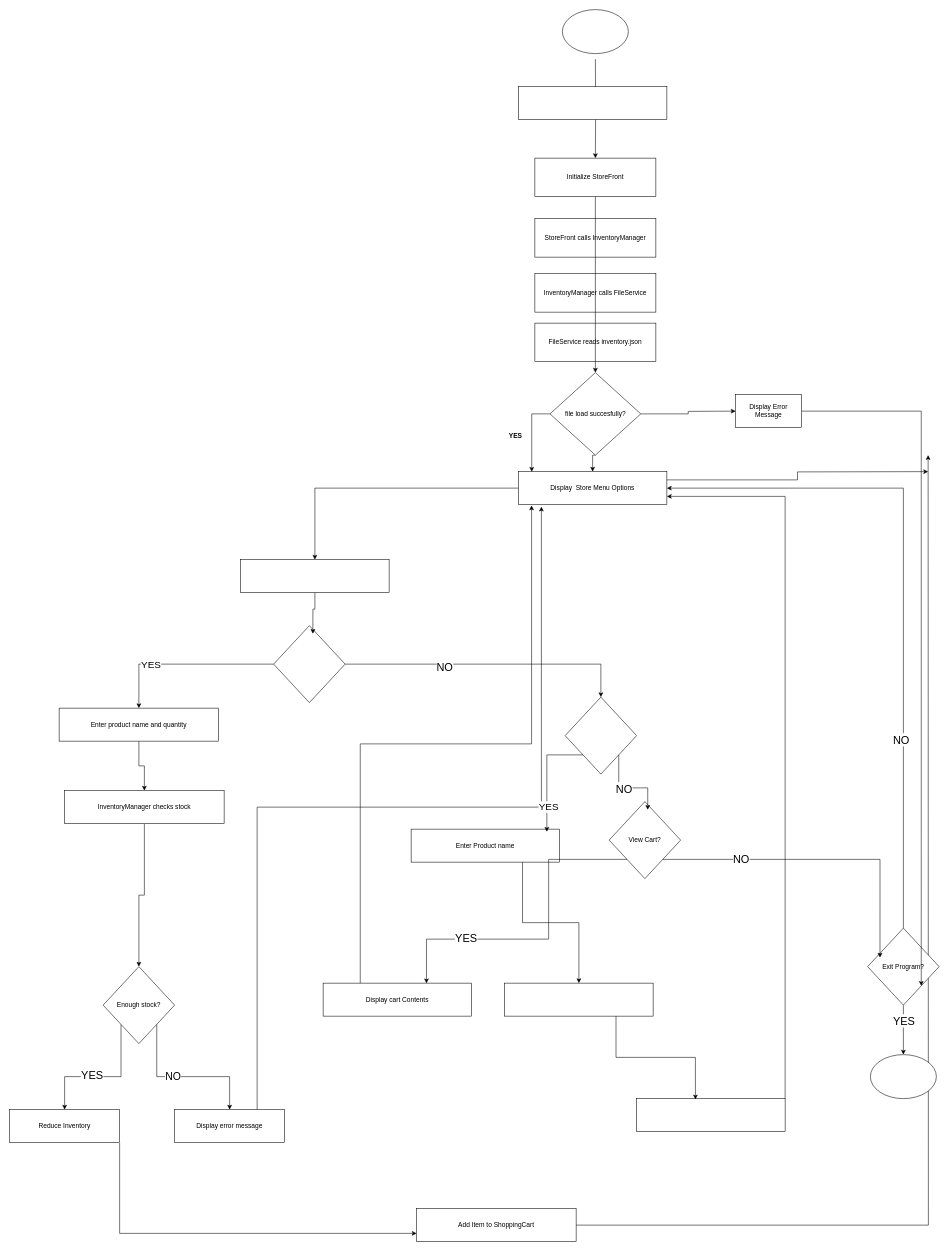
Some shapes in this 949 by 1251 pixel diagram are drawn without their labels. Here are the shapes that lost their labels. From the top down, the centre of each, then its label:
point (595, 31): Start
point (592, 103): Display Store name and Welcome message
point (314, 576): User selects option
point (309, 664): Purchase Product?
point (601, 735): Cancel Purchase?
point (578, 999): Remove Item from ShoppingCart
point (903, 1076): End
point (710, 1115): Restore quantity in InventoryManager
